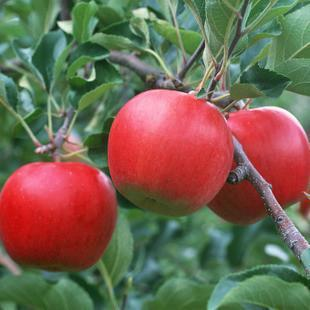apple: (105, 88, 237, 218), (1, 162, 116, 270), (207, 106, 310, 224)
